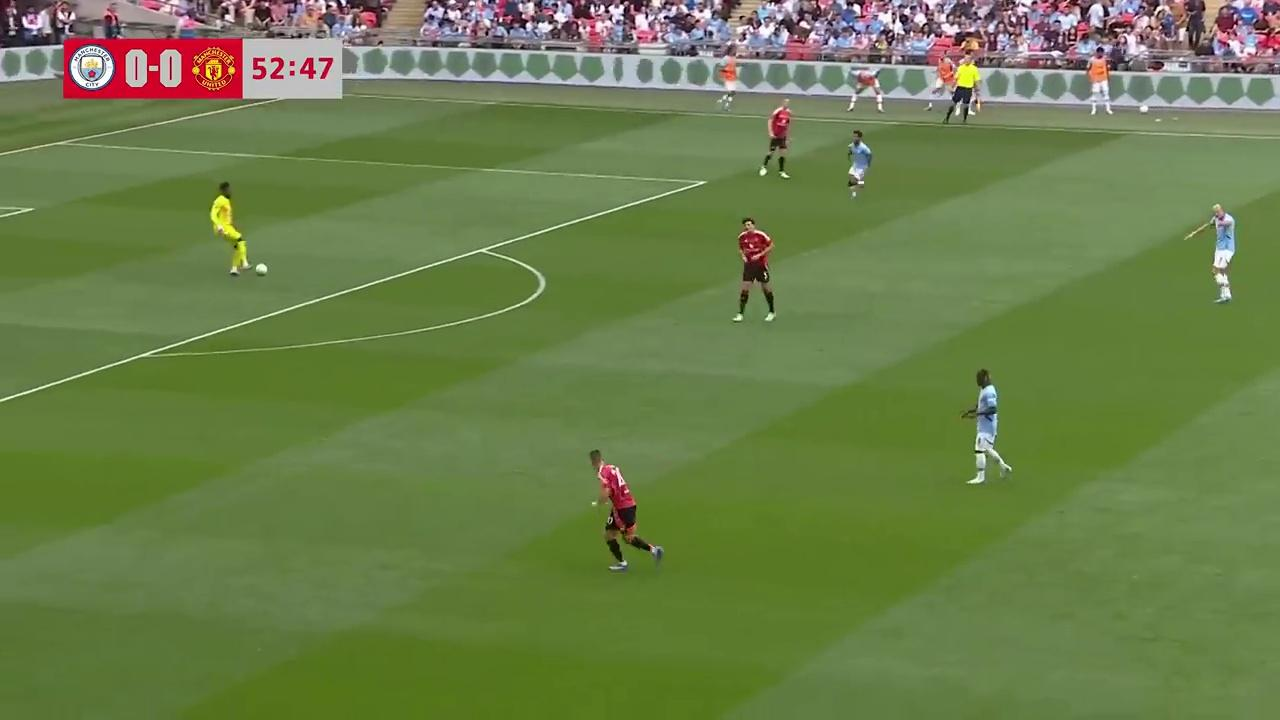ball: (254, 260, 269, 275)
player: (589, 449, 661, 572), (958, 368, 1013, 484), (1184, 203, 1235, 304), (733, 216, 776, 323), (209, 182, 248, 276), (759, 100, 794, 179), (846, 128, 872, 199)
referee: (942, 56, 982, 125)
